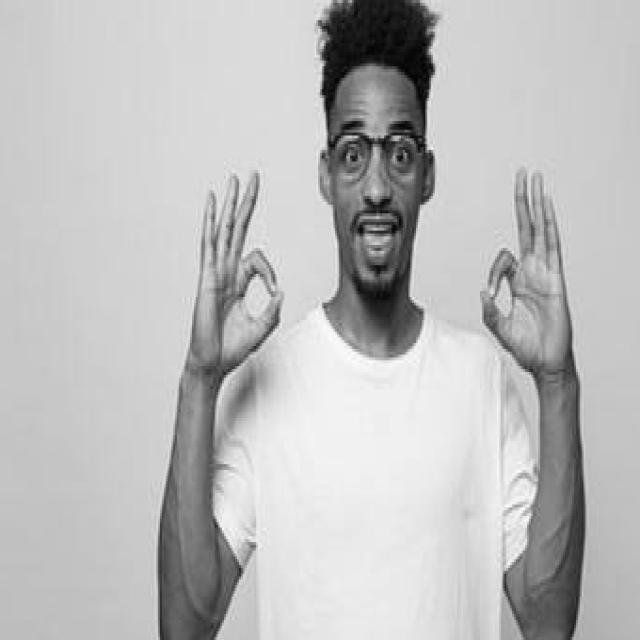perfect: (177, 162, 289, 398), (476, 160, 586, 386)
